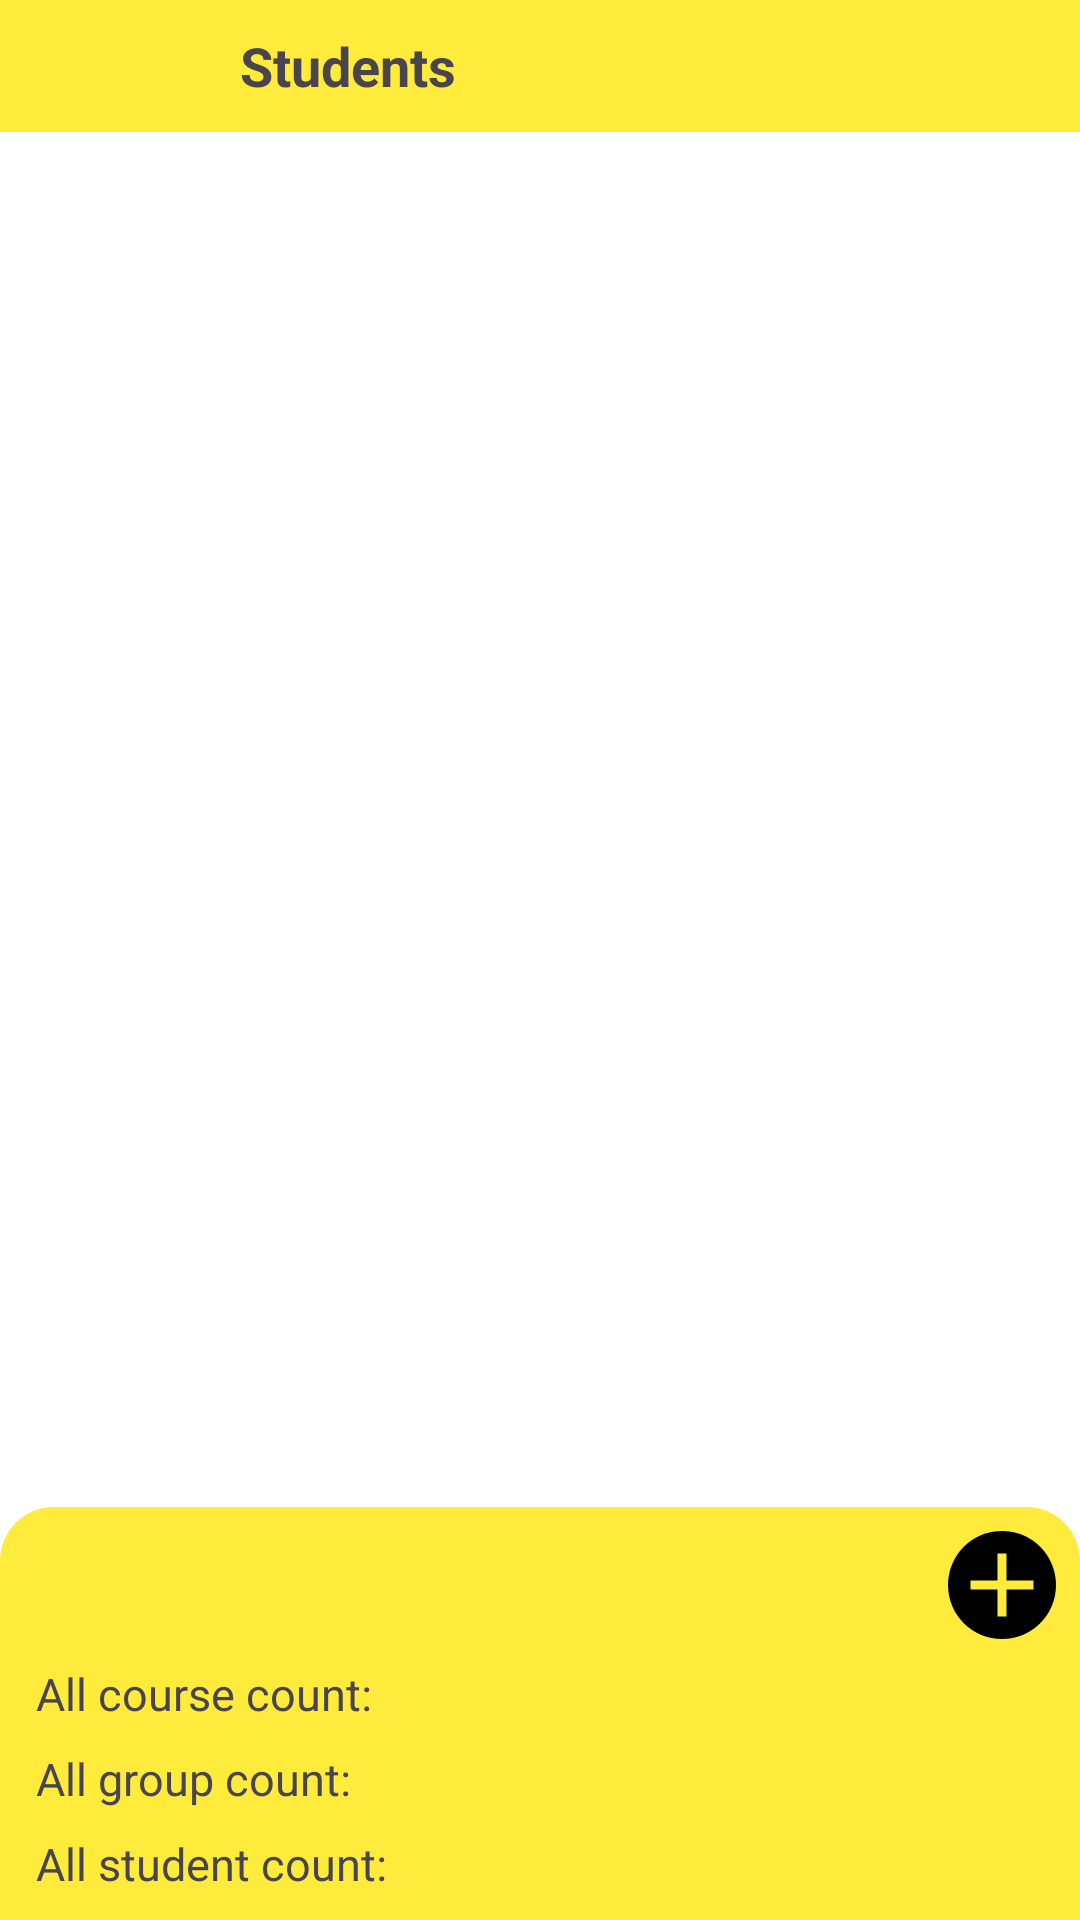

Locate icon controls on the screen. Image size 1080×1920, boxes as (x1, y1, x2, y2).
plus: (948, 1531, 1056, 1639)
